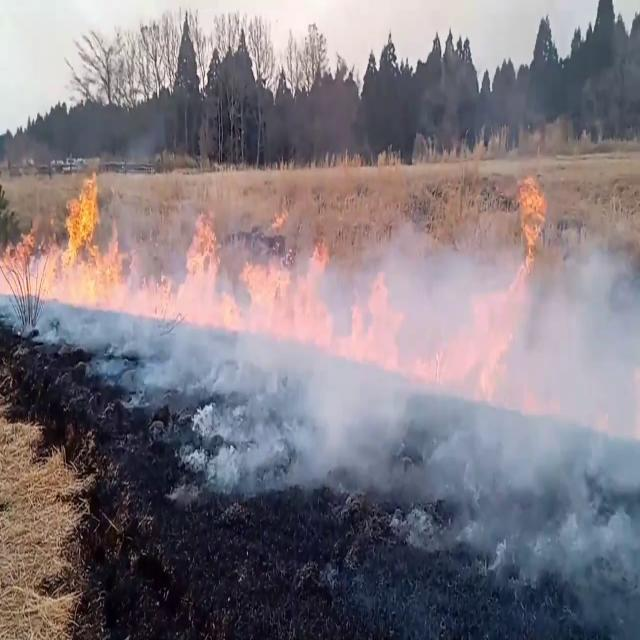Fire: (177, 190, 340, 340), (0, 157, 130, 304), (512, 161, 552, 266)
Smoke: (220, 179, 640, 626)
